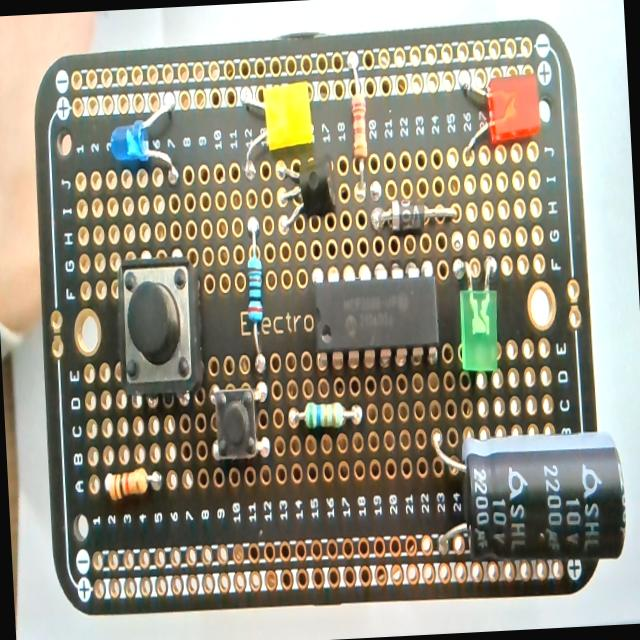Electrolytic capacitor: (426, 423, 629, 568)
IC: (314, 272, 441, 360)
diode: (370, 197, 462, 236)
led: (236, 80, 316, 180), (457, 71, 540, 162), (106, 96, 181, 186), (452, 252, 503, 372)
resistor: (240, 218, 269, 376), (347, 53, 369, 169), (289, 401, 362, 432), (106, 466, 161, 500)
switch: (114, 254, 204, 396), (208, 384, 270, 462)
transistor: (272, 156, 337, 233)
